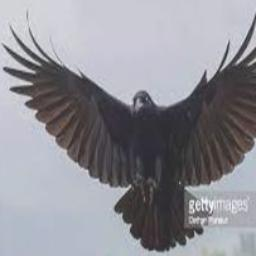Crow: (1, 8, 256, 251)
